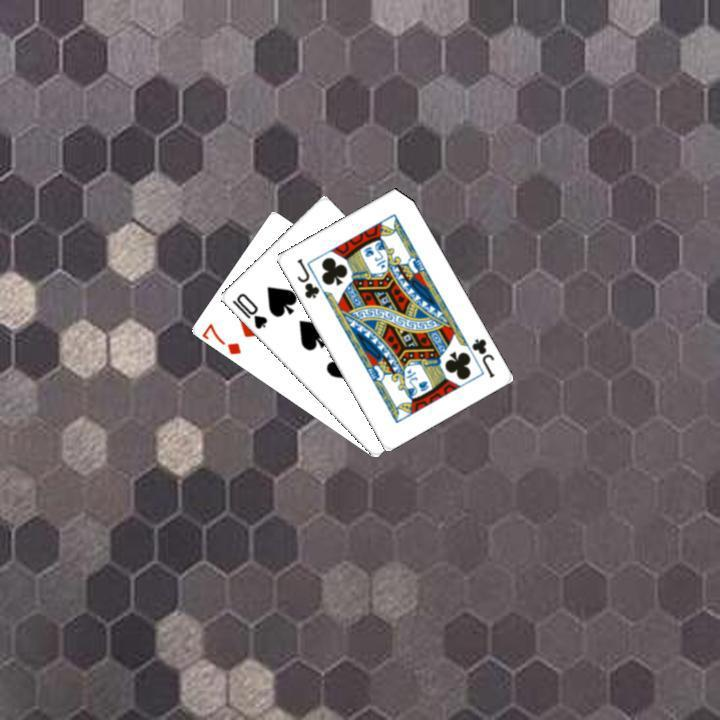10: (227, 289, 269, 331)
7: (198, 319, 243, 357)
J: (292, 254, 321, 301), (467, 334, 496, 380)
